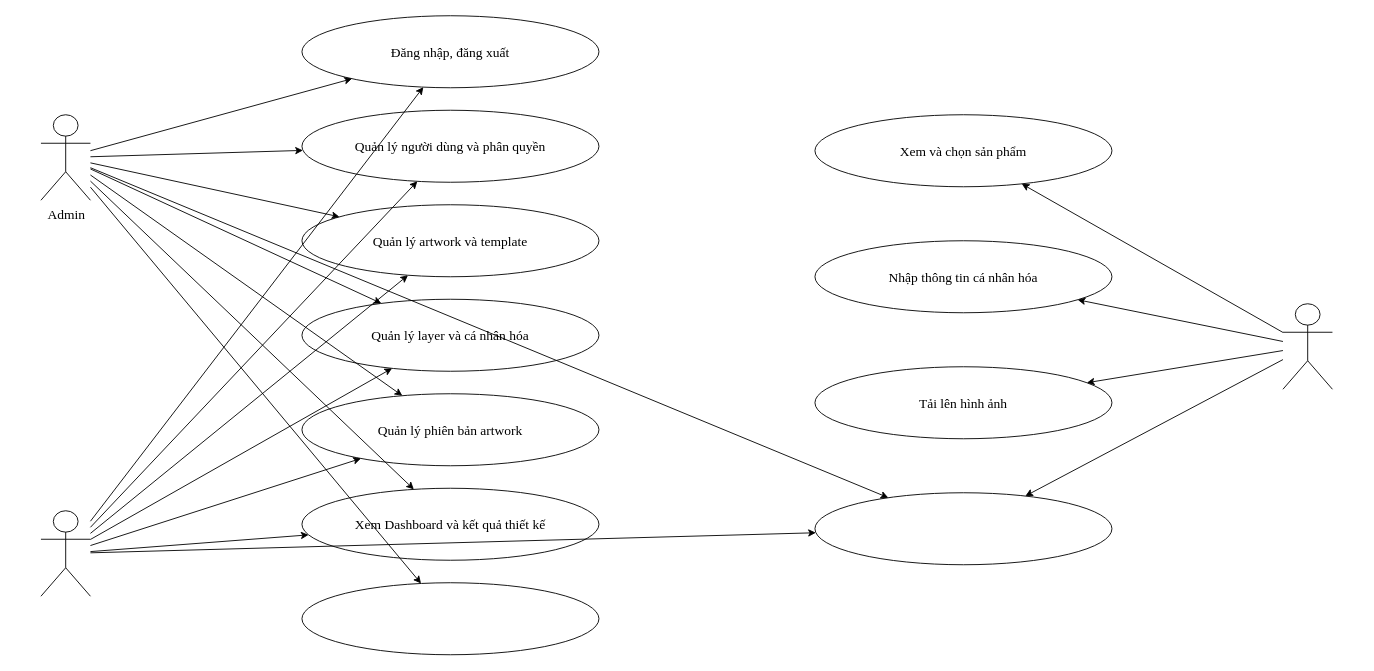
Some shapes in this 1374 by 671 pixel diagram are drawn without their labels. Each missing label, with the centre of its shape:
Manager/Operator: (x=65, y=553)
Theo dõi nhật ký hoạt động: (x=450, y=618)
Tạo ảnh xem trước (Preview): (x=963, y=528)
User (Khách hàng): (x=1307, y=346)
